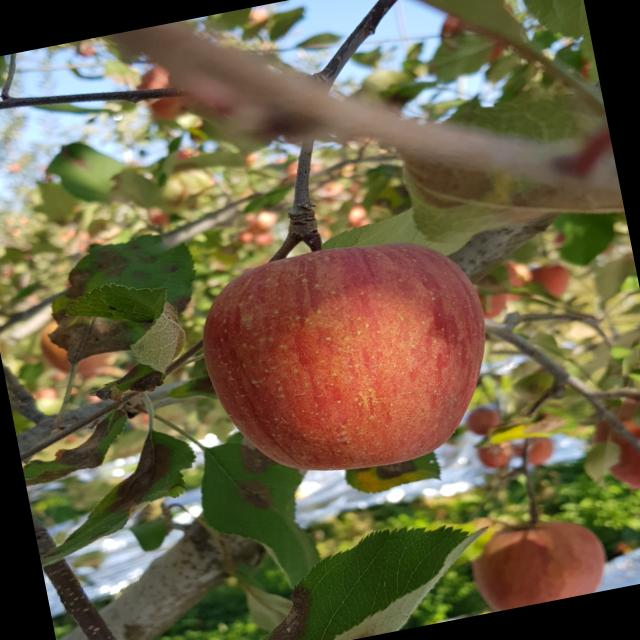fresh: (174, 214, 523, 509)
